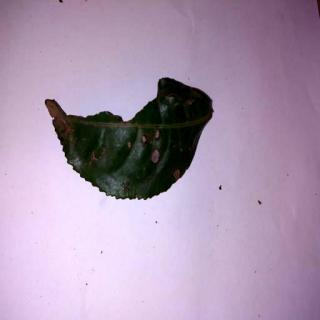Anthracnose: (46, 76, 217, 200)
